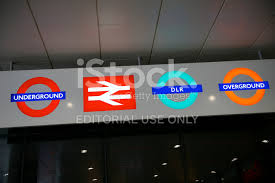London Underground: (11, 77, 66, 116), (219, 67, 271, 107)
